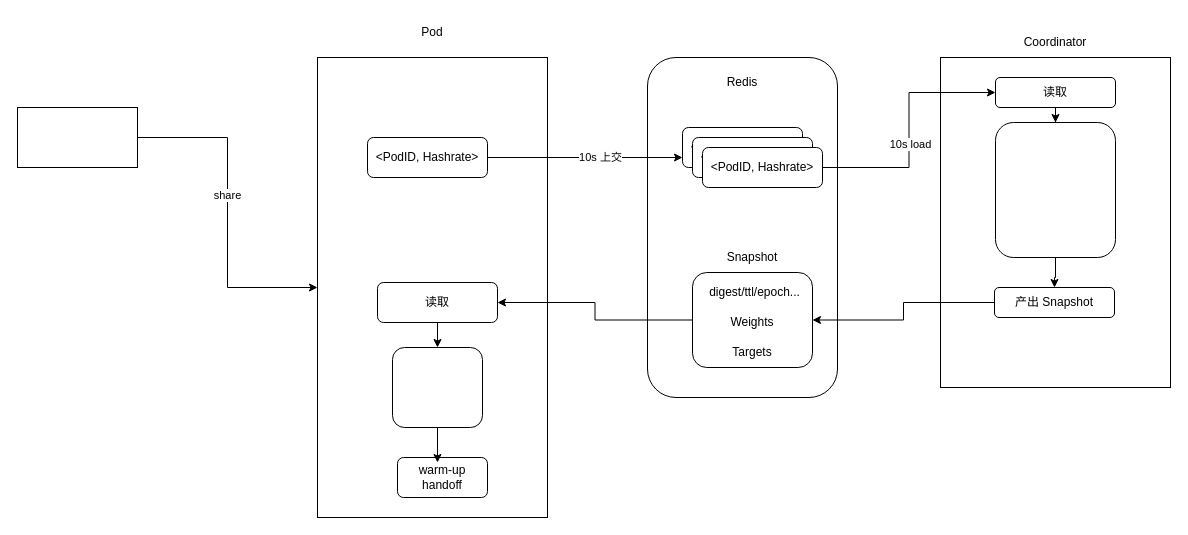
Image size: 1188x535. Some labels were removed from this diagram. Each missing label, with the box of its shape:
Force-reassign: (392, 346, 482, 428)
Miner: (16, 106, 138, 168)
加工: (994, 122, 1116, 258)
